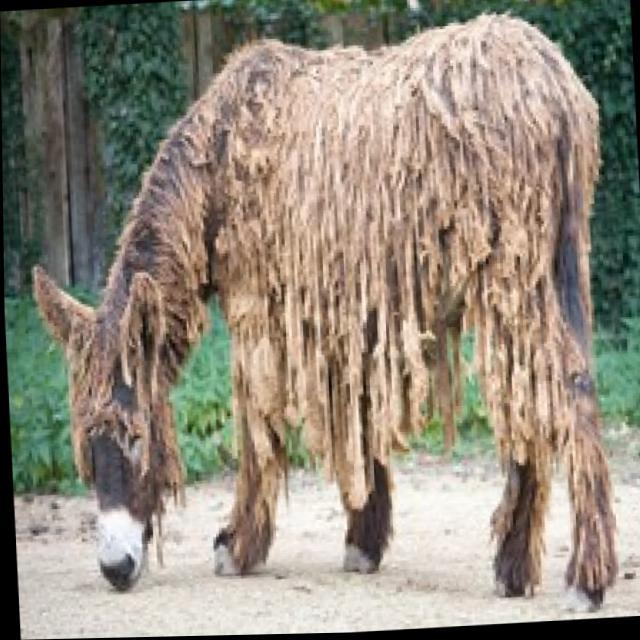Donkey: (16, 5, 624, 638)
